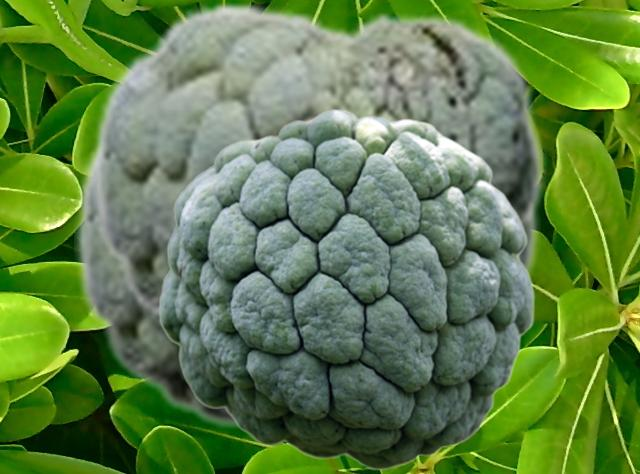atis: (91, 0, 545, 326), (74, 137, 539, 442), (158, 108, 534, 470)
